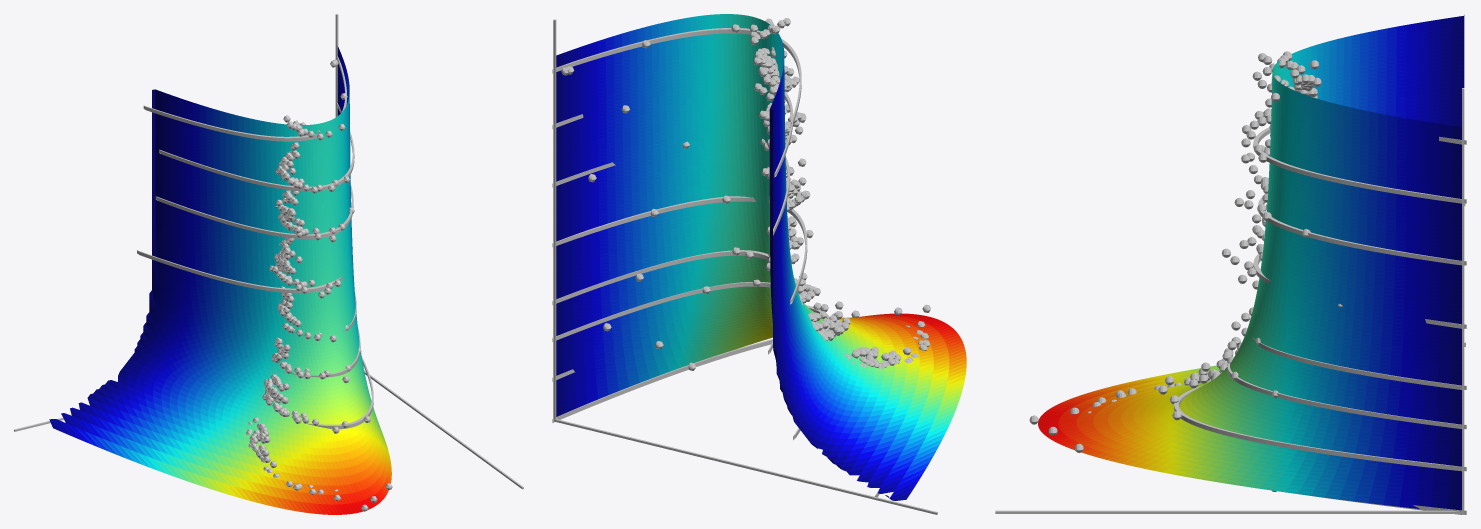
3 views of the same model, side by side, from view 1: azimuth 30°, elevation 25°; view 2: azimuth 150°, elevation 25°; view 3: azimuth 270°, elevation 25° (orthographic). The views are drawn at different scales.
Visible parts, largest first — view 1: pvt; view 2: pvt; view 3: pvt.
Part boxes in pixels (<box>): pvt: <box>14,14,523,514</box>; pvt: <box>552,14,966,514</box>; pvt: <box>995,15,1466,514</box>.
Size of the model in its own units: 1 by 1.01 by 1.
